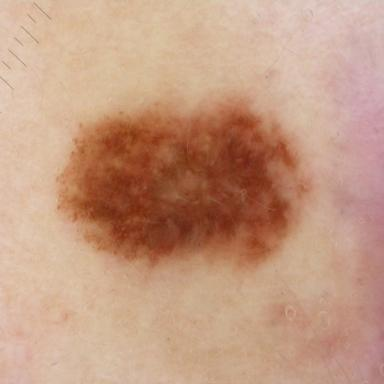nevus: (57, 97, 311, 273)
